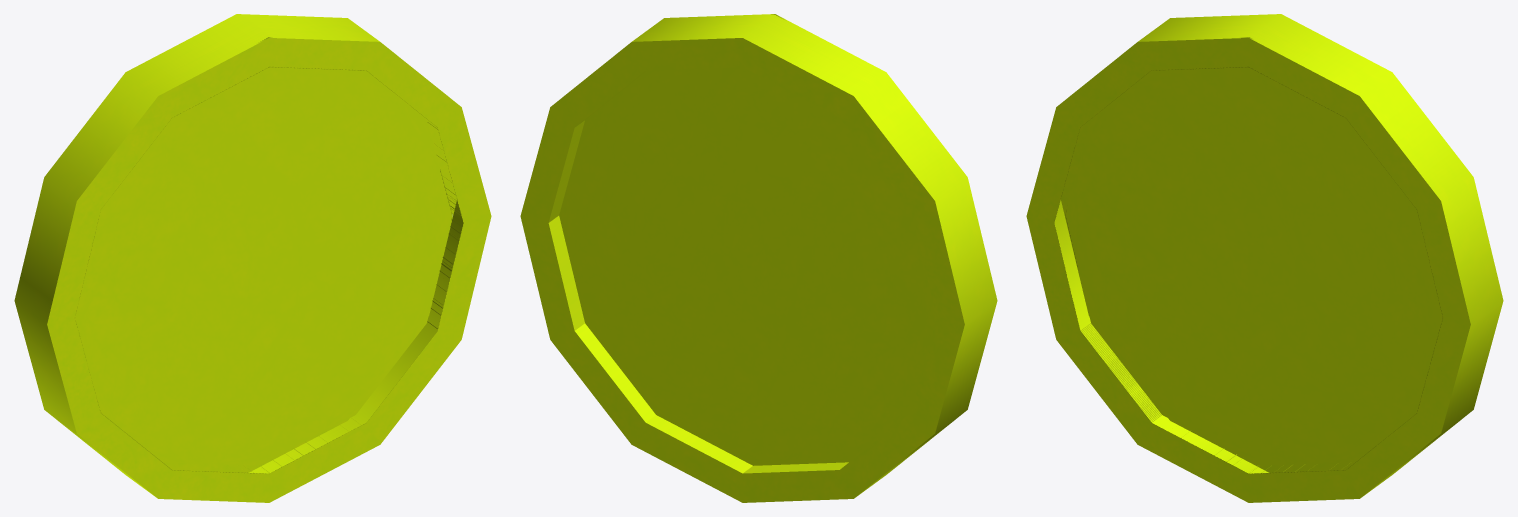
File: Coin.FBX
The picture shows the model from 3 angles, left to right: view 1: azimuth 30°, elevation 25°; view 2: azimuth 150°, elevation 25°; view 3: azimuth 330°, elevation 25°; orthographic projection.
Visible parts, largest first — view 1: Cylinder001; view 2: Cylinder001; view 3: Cylinder001.
Boxes of the visible parts, <box> form: Cylinder001: <box>14,14,491,502</box>; Cylinder001: <box>520,14,997,502</box>; Cylinder001: <box>1026,14,1503,502</box>.
Bounding box in the file's own units: 29.23 × 29.23 × 3.72.
